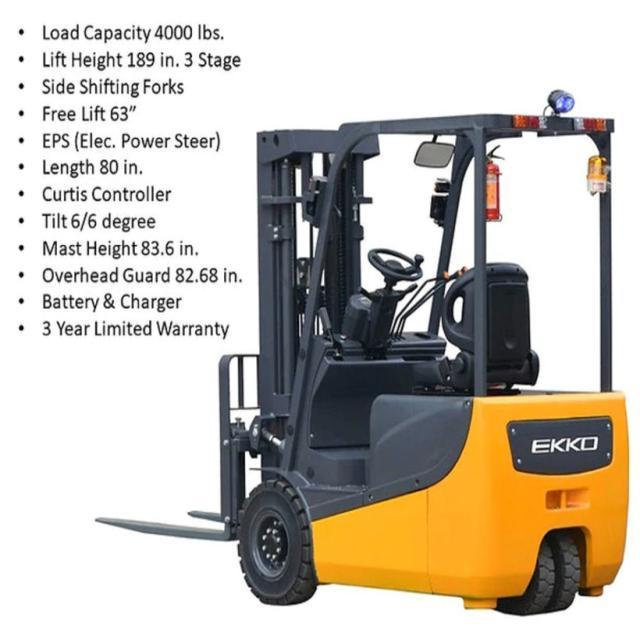forklift: (224, 90, 626, 621)
